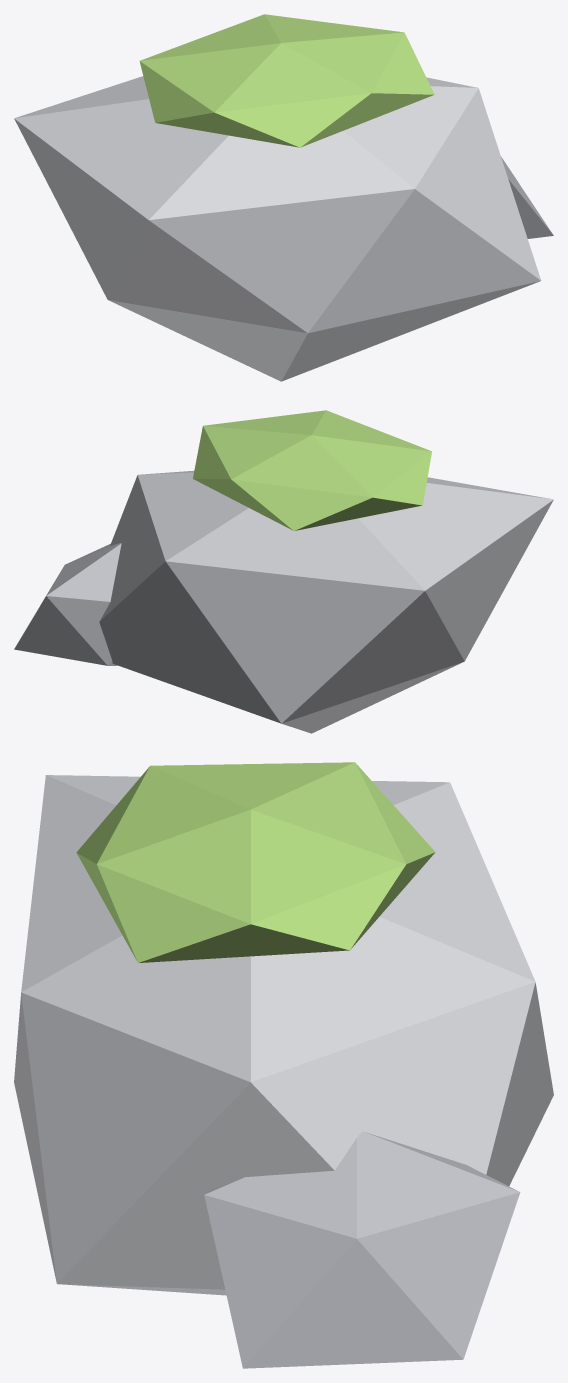
File: rock-1.glb
3 renders of one model, top to bottom at view 1: azimuth 30°, elevation 25°; view 2: azimuth 150°, elevation 25°; view 3: azimuth 270°, elevation 25°, orthographic. The views are drawn at different scales.
Parts seen in each view (by area): view 1: rock-1-rock, rock-1-moss, rock-1-rockd; view 2: rock-1-rock, rock-1-moss, rock-1-rockd; view 3: rock-1-rock, rock-1-moss, rock-1-rockd.
Part boxes in pixels (x1,y1,x2,y2): rock-1-rock: (14, 76, 541, 381); rock-1-moss: (139, 14, 434, 147); rock-1-rockd: (501, 156, 553, 238); rock-1-rock: (99, 470, 553, 733); rock-1-moss: (193, 410, 431, 530); rock-1-rockd: (14, 543, 121, 665); rock-1-rock: (14, 775, 553, 1295); rock-1-moss: (76, 762, 435, 962); rock-1-rockd: (204, 1131, 520, 1368).
Size of the model in its own units: 1.48 by 1.01 by 1.02.
